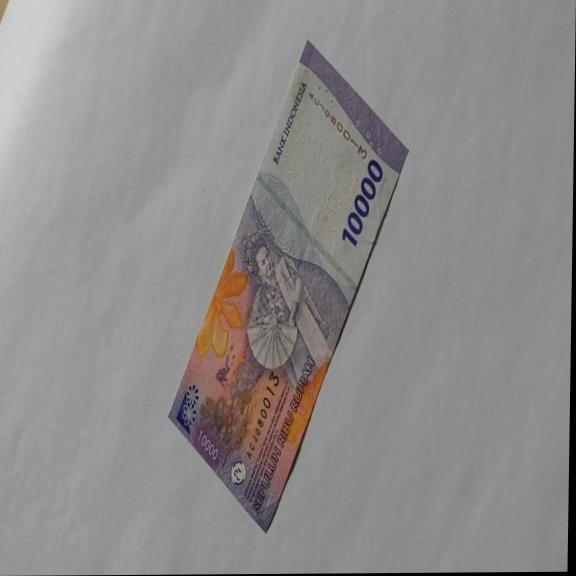Kertas: (165, 37, 411, 534), (340, 157, 384, 248)
